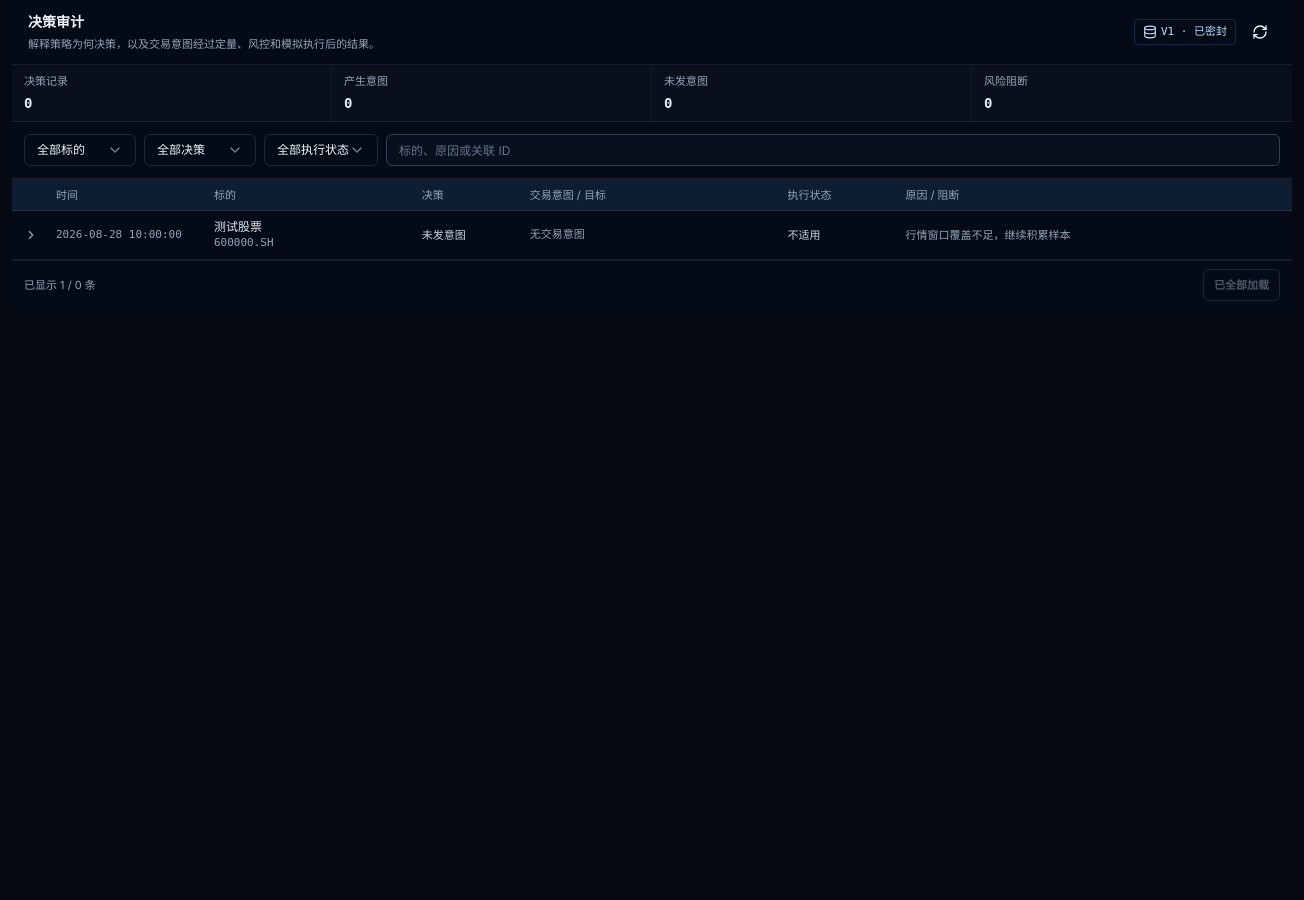
Test: replay evidence pages › keeps a no-intent material decision useful without internal reason tags
Expected: the text "无交易意图" is shown, [530,228,585,241]
Expected: the text "行情窗口覆盖不足，继续积累样本" is shown, [906,228,1070,242]
Click the button with aria-label "决策 600000.SH".
click(119, 234)  # box [12,211,1292,259]
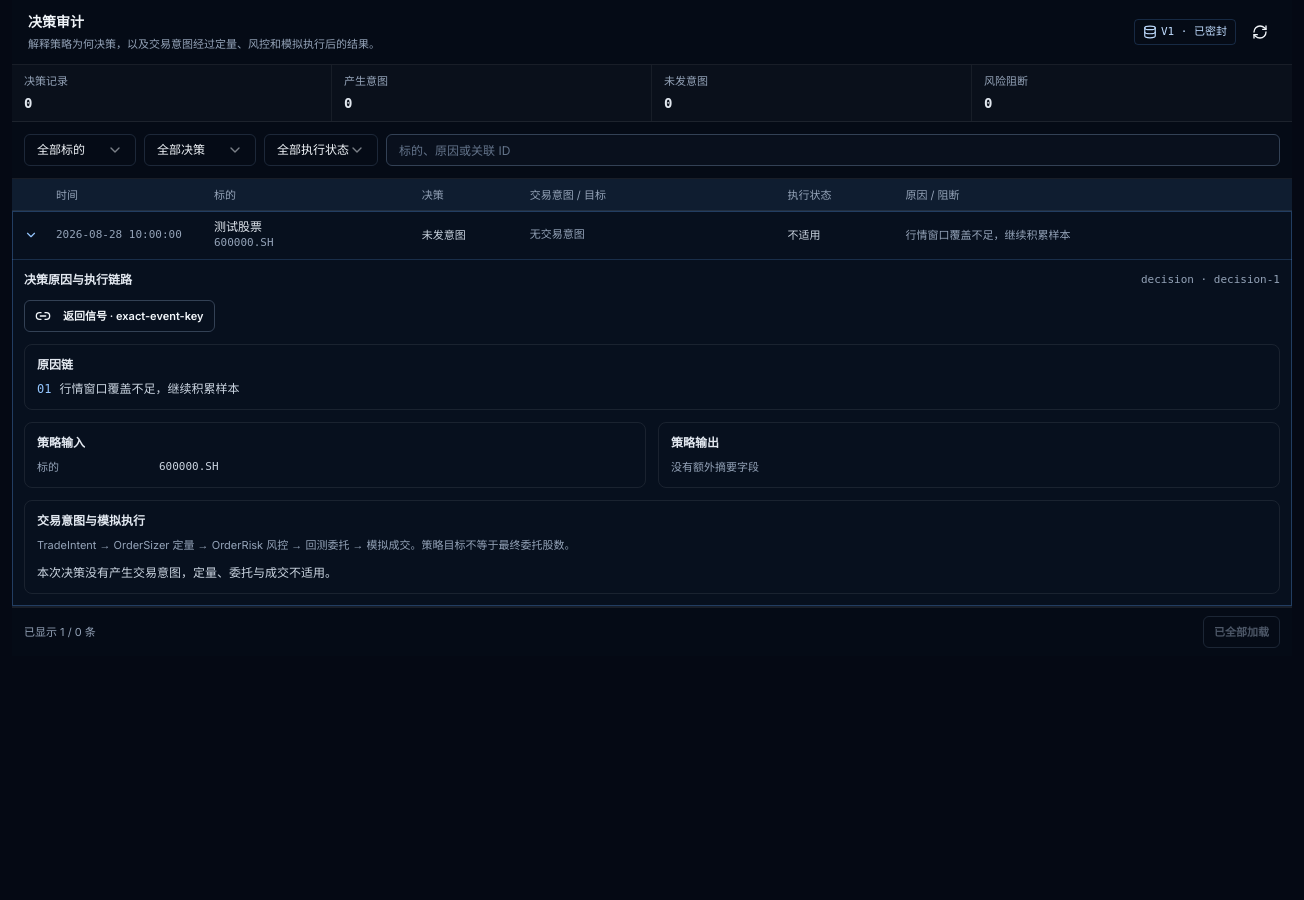
Expected: the text "本次决策没有产生交易意图，定量、委托与成交不适用。" is shown, [37,565,337,580]
Click the button "返回信号 · exact-event-key".
click(119, 316)  # box [24,300,214,332]
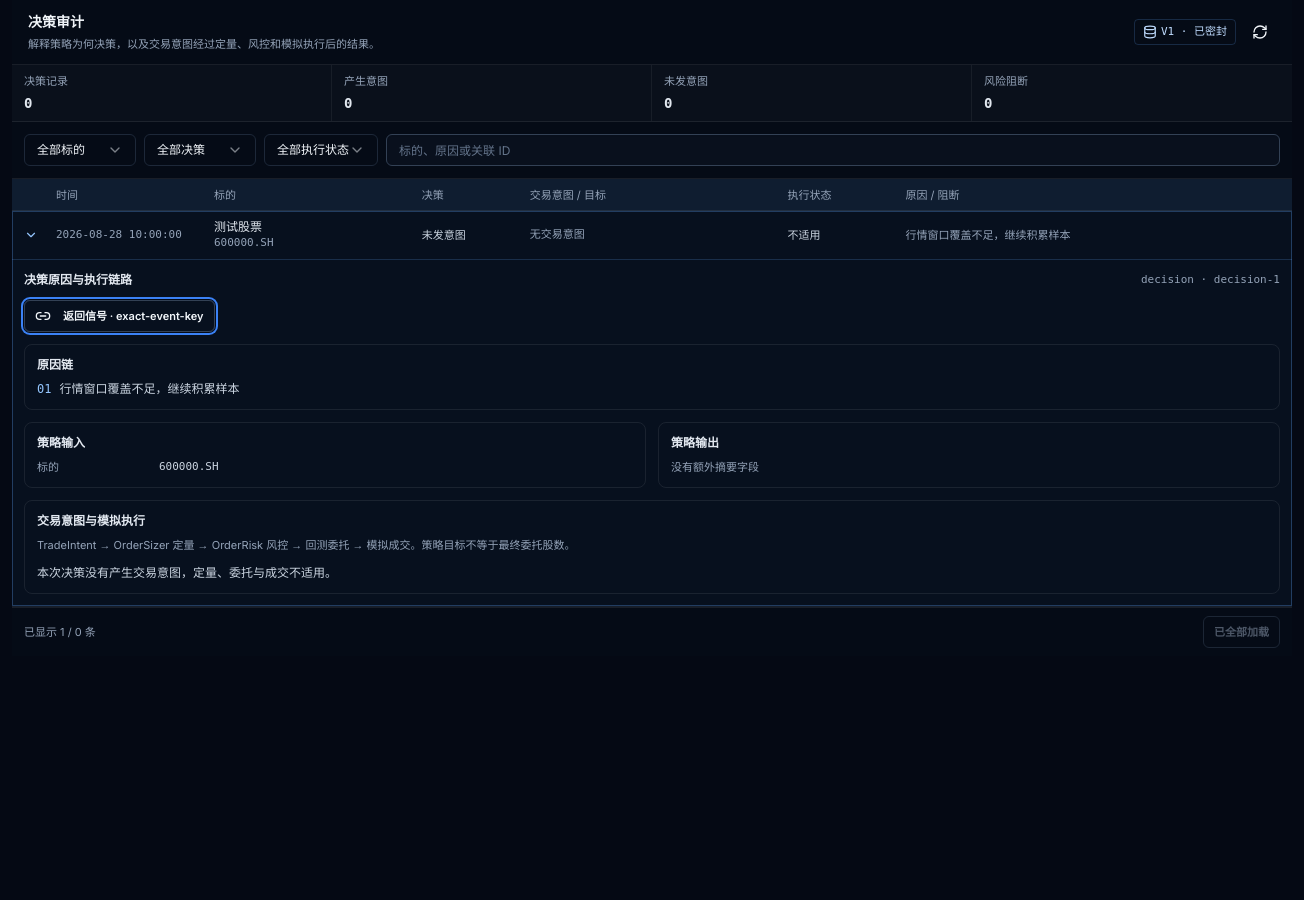
Press Escape in the button "返回信号 · exact-event-key", box [24,300,214,332]
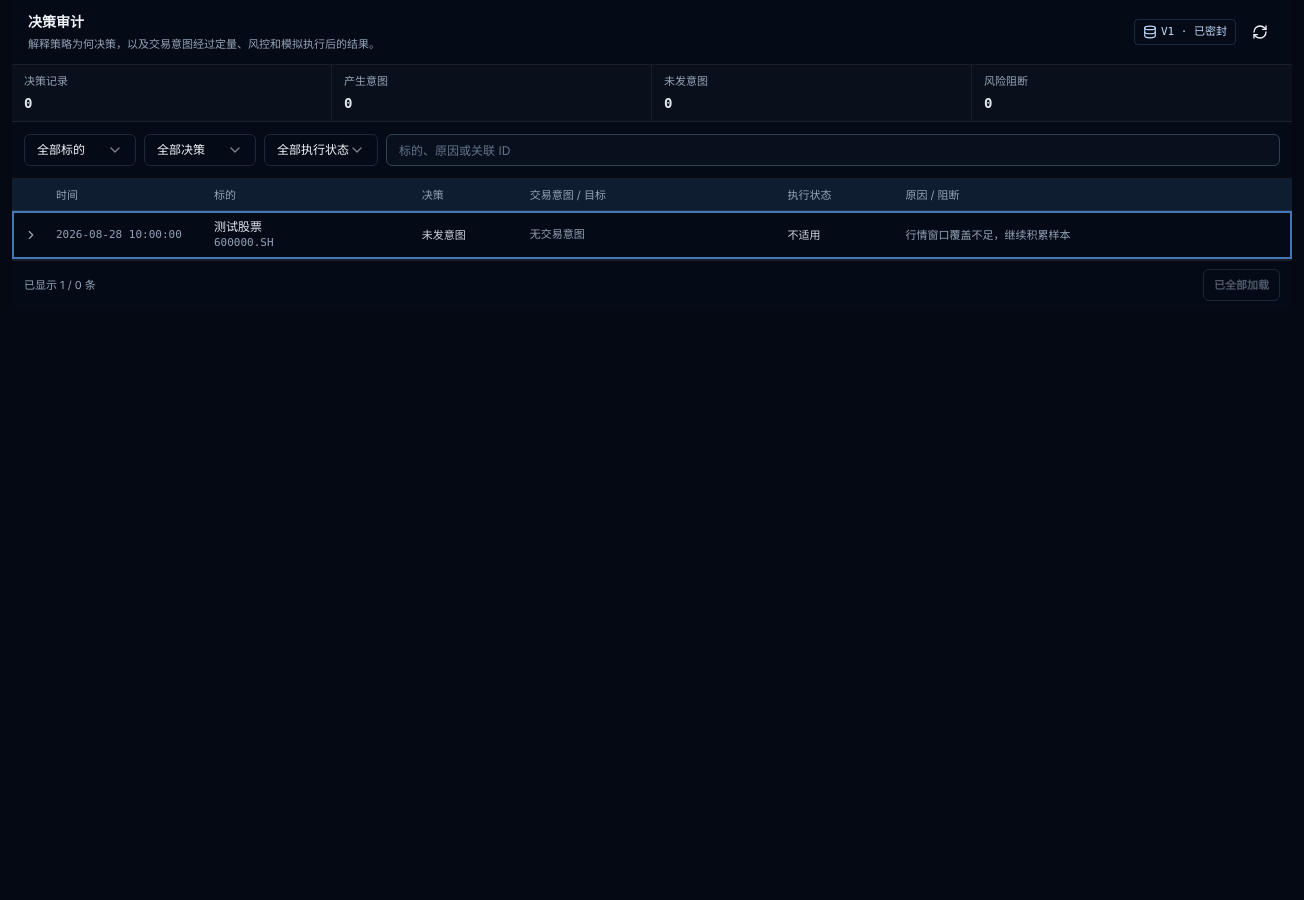
Expected: the button with aria-label "决策 600000.SH" is collapsed, [12,211,1292,259]
